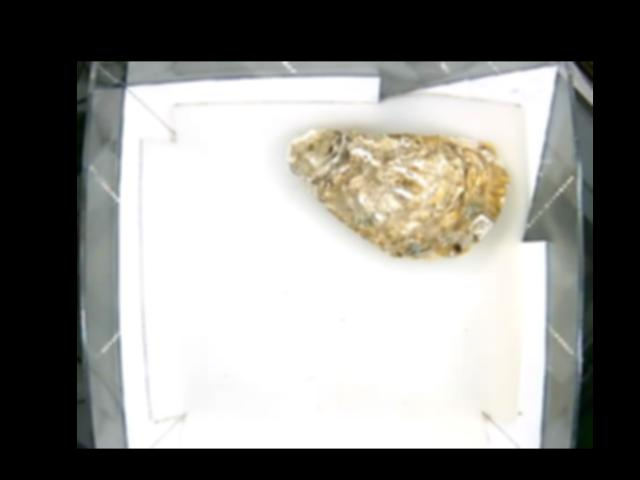Shell: (286, 128, 509, 260)
